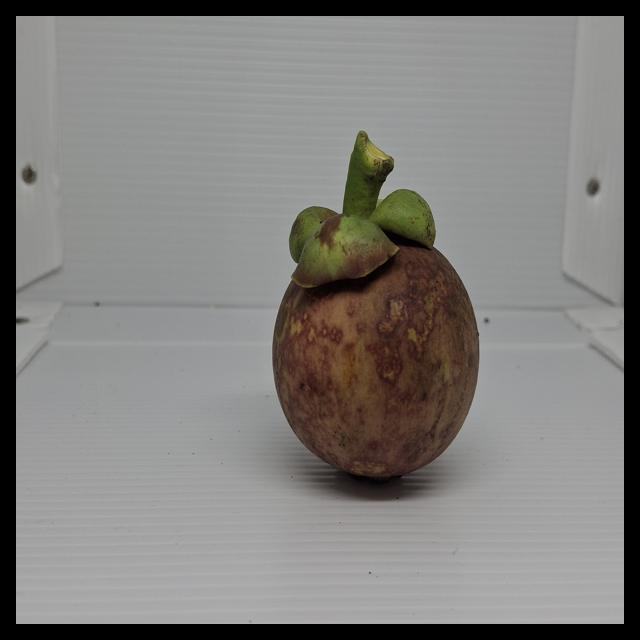mangosteen: (235, 120, 516, 495)
